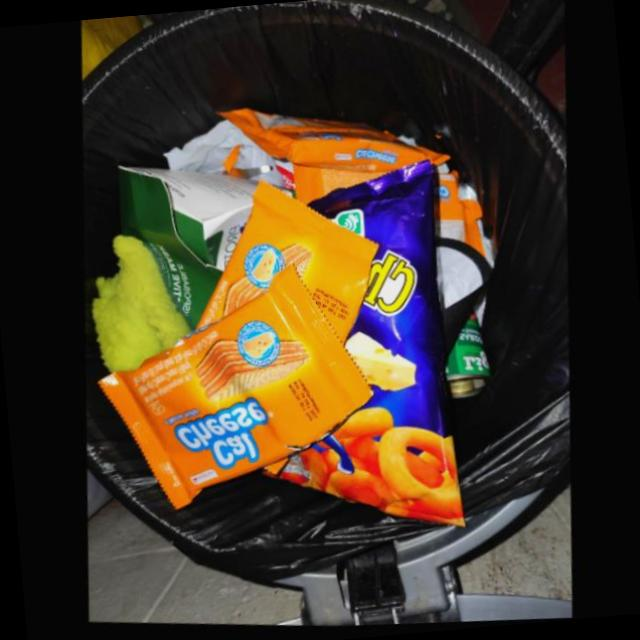bao_bi_thuc_pham: (274, 159, 463, 526), (96, 267, 371, 513), (185, 183, 377, 348), (215, 111, 448, 175), (436, 171, 481, 258), (291, 168, 385, 207)
carton: (115, 170, 256, 336)
nhom: (443, 313, 489, 400)
